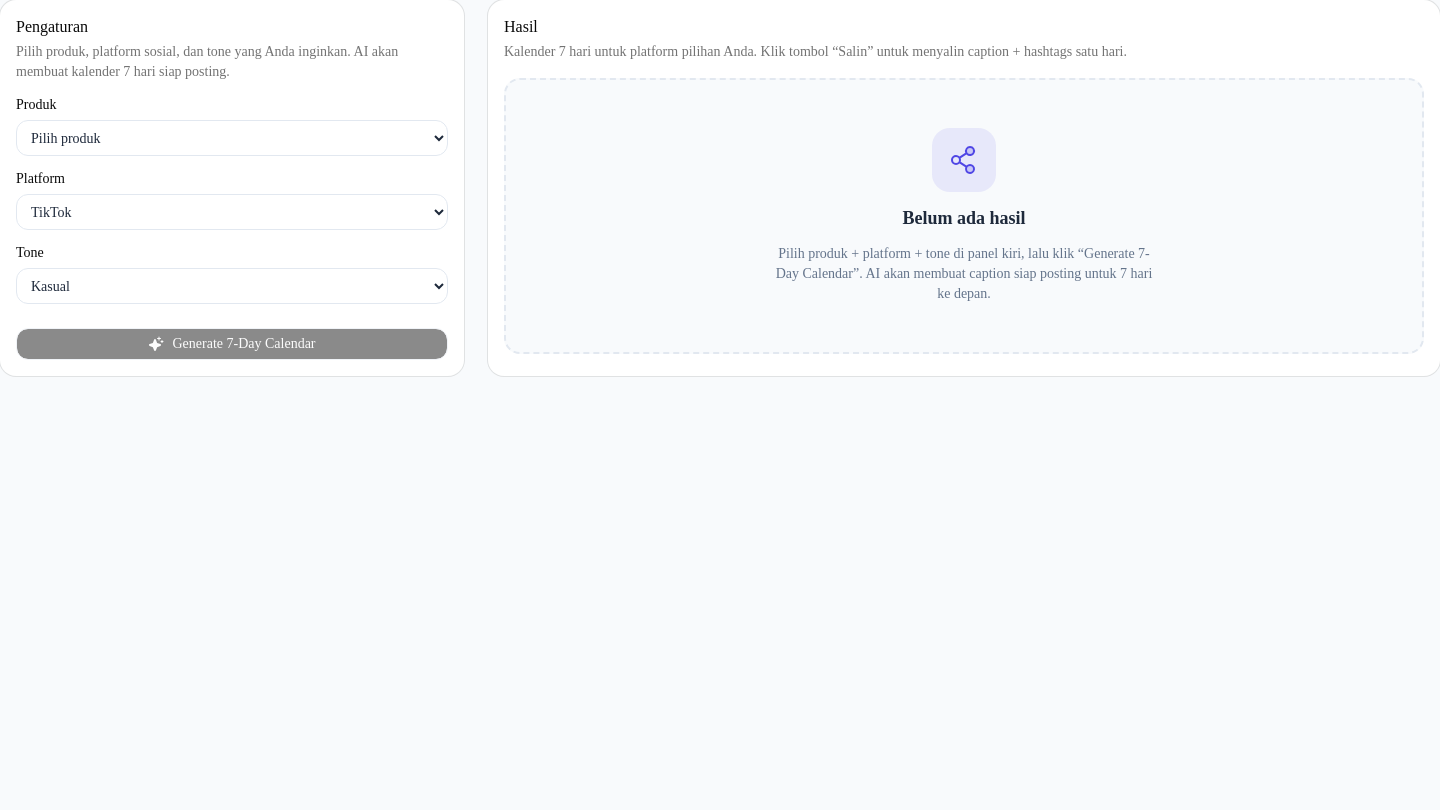
Test: <SocialGenerator /> › renders 7 day cards with content type, topic, caption, hashtags, and best time on success
Select "Sample Product A" in the dropdown with test id "social-product". click: (232, 138)
box: [16,120,448,156]
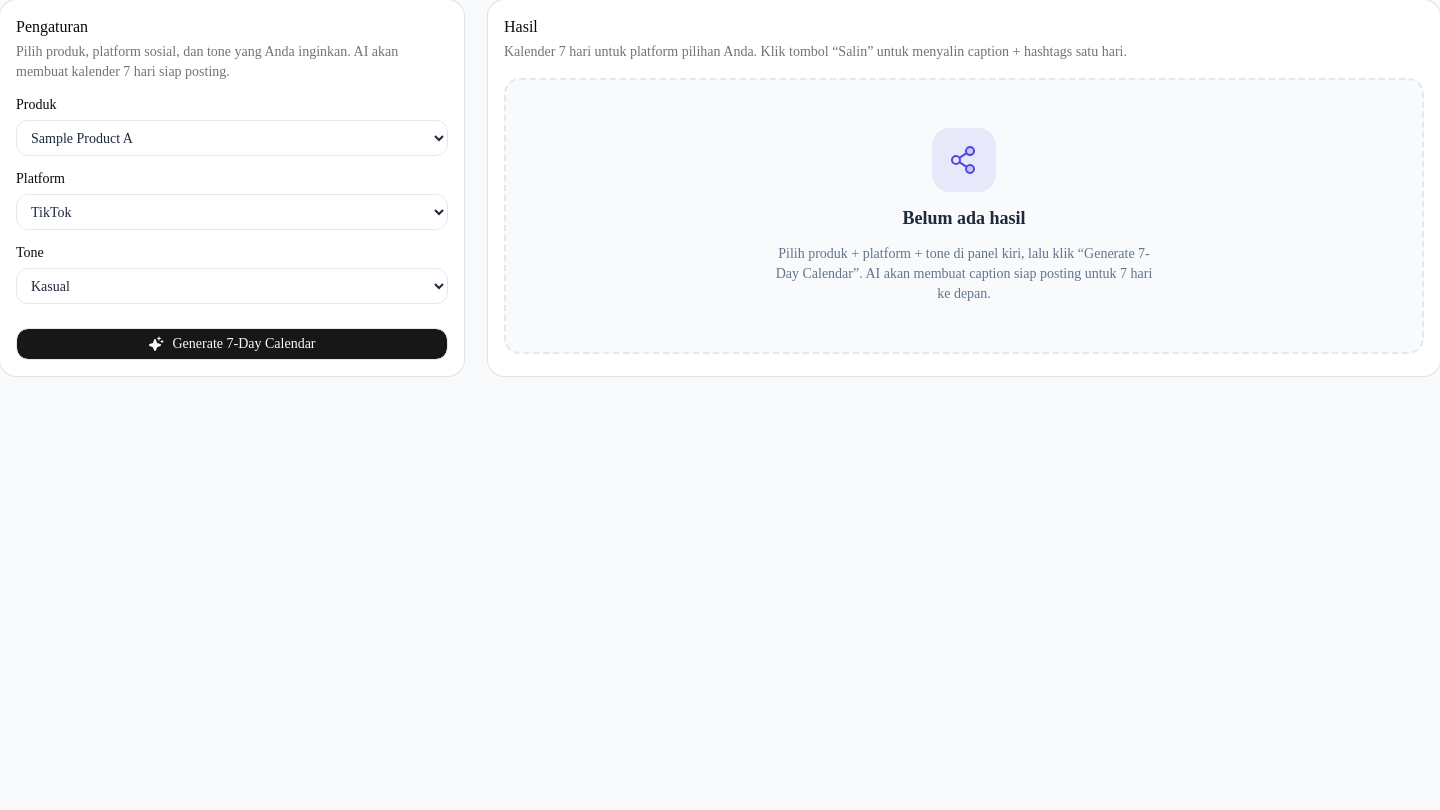
Click the button "Generate 7-Day Calendar". click: (232, 344)
box: [16,328,448,360]
(page scrolled)
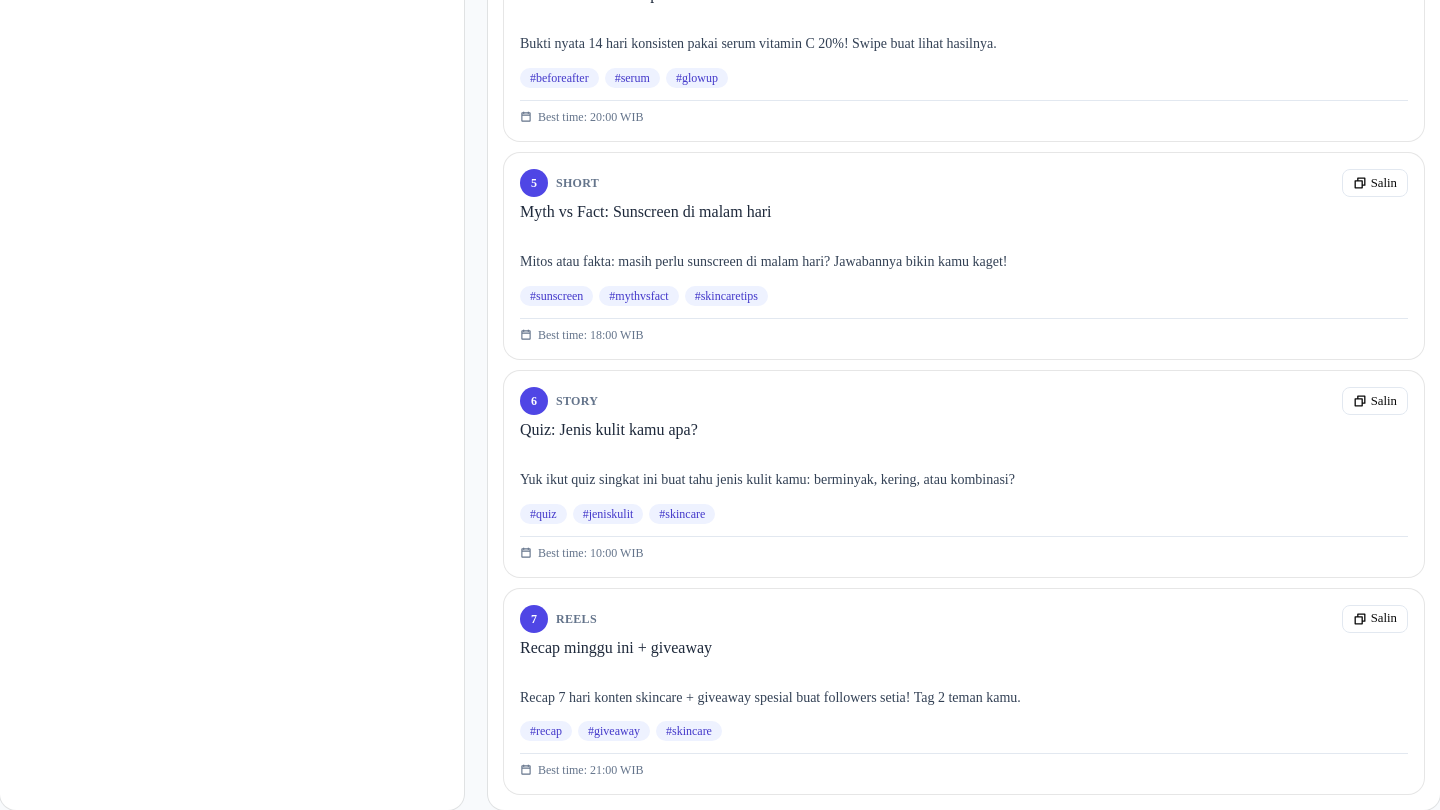
Now the number of elements with test id "social-day-card" is 7
